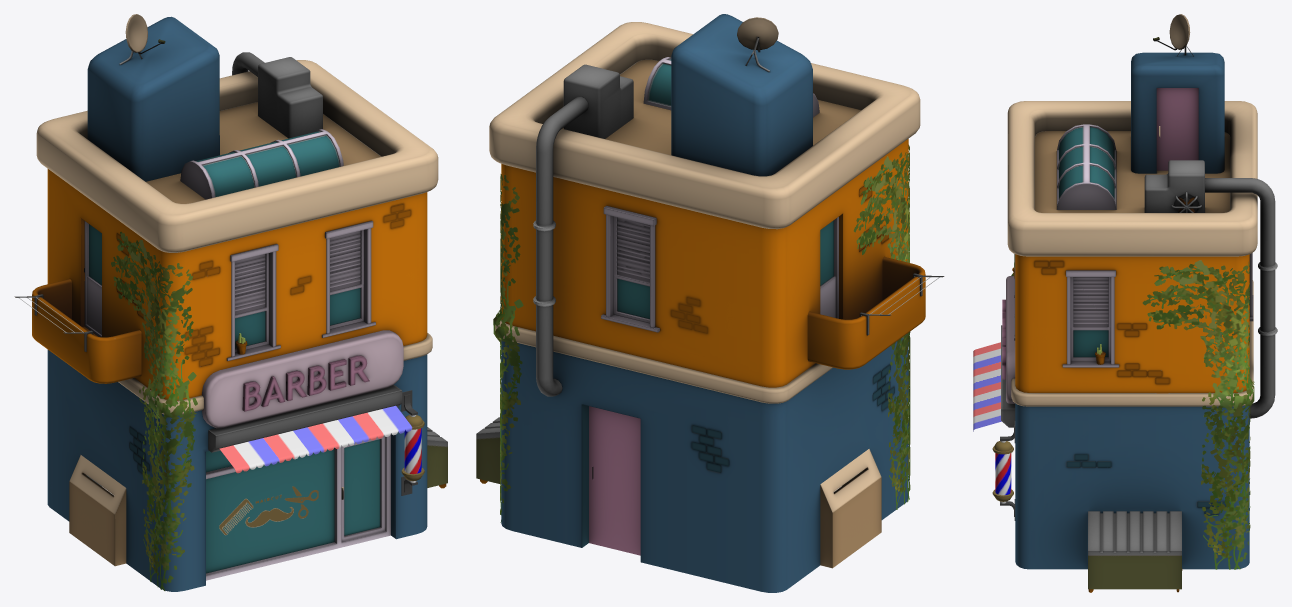
Rendered from Ersin_Cin_Manc_Games_Case.fbx.
The picture shows the model from 3 angles, left to right: view 1: azimuth 30°, elevation 25°; view 2: azimuth 150°, elevation 25°; view 3: azimuth 270°, elevation 25°; orthographic projection. The views are drawn at different scales.
Parts seen in each view (by area): view 1: Building; view 2: Building; view 3: Building.
Part boxes in pixels (<box>): Building: <box>14,14,447,591</box>; Building: <box>476,14,944,592</box>; Building: <box>973,14,1277,592</box>.
Bounding box in the file's own units: 872 × 1083 × 648.
